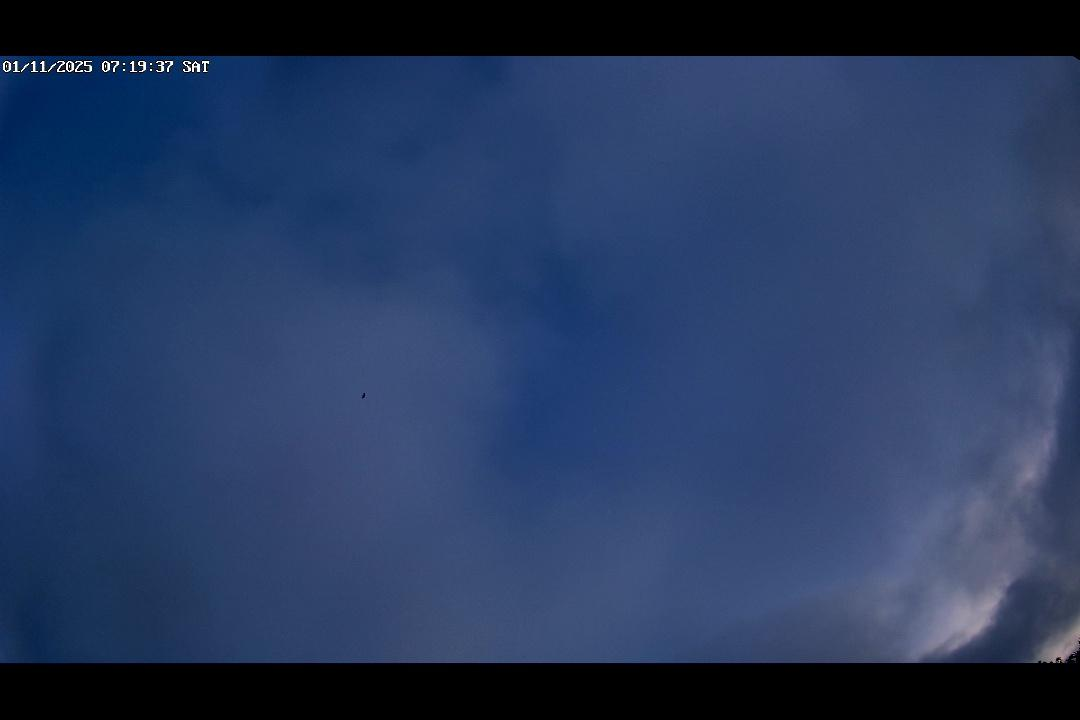WildLife: (345, 389, 379, 405)
